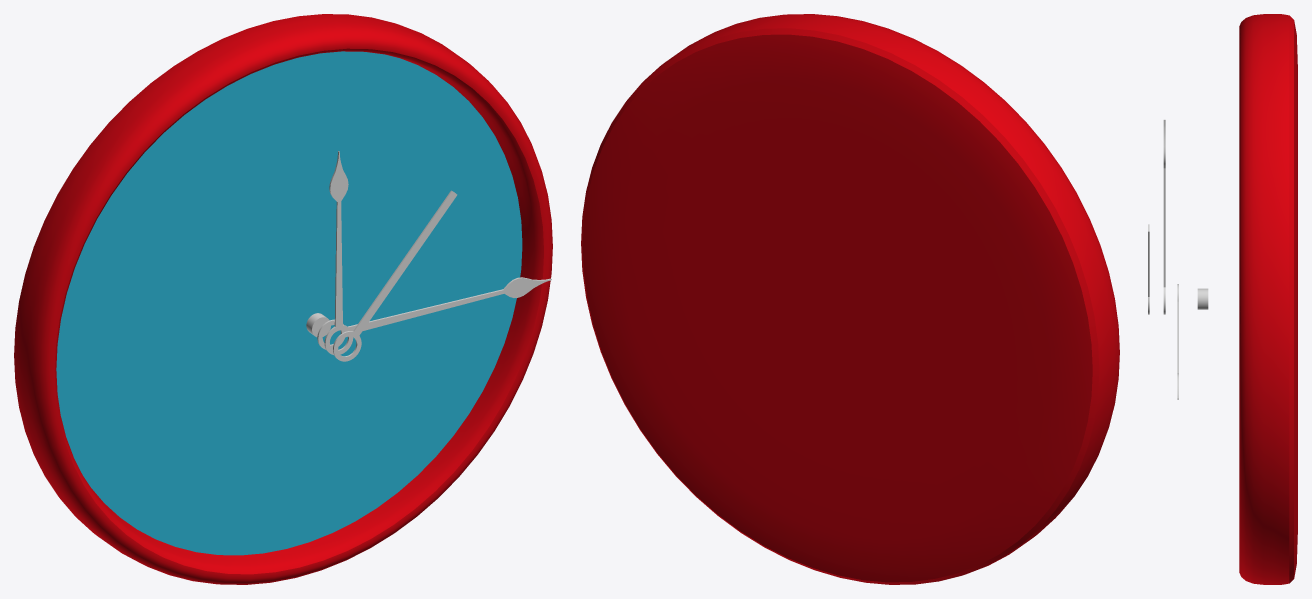
Rendered from P_0022_Clock.fbx.
3 views of the same model, side by side, from view 1: azimuth 30°, elevation 25°; view 2: azimuth 150°, elevation 25°; view 3: azimuth 270°, elevation 25° (orthographic). The views are drawn at different scales.
Visible parts, largest first — view 1: polySurface7, polySurface11, polySurface10, polySurface9; view 2: polySurface7; view 3: polySurface7, polySurface9, polySurface8, polySurface10.
Part boxes in pixels (x1,y1,x2,y2): polySurface7: (14, 14, 552, 584); polySurface11: (333, 190, 457, 361); polySurface10: (317, 277, 551, 349); polySurface9: (324, 151, 353, 354); polySurface7: (581, 14, 1119, 584); polySurface7: (1239, 14, 1297, 584); polySurface9: (1163, 119, 1165, 314); polySurface8: (1197, 288, 1208, 309); polySurface10: (1177, 284, 1178, 399).
Bounding box in the file's own units: 0.6936 × 0.6936 × 0.182.
